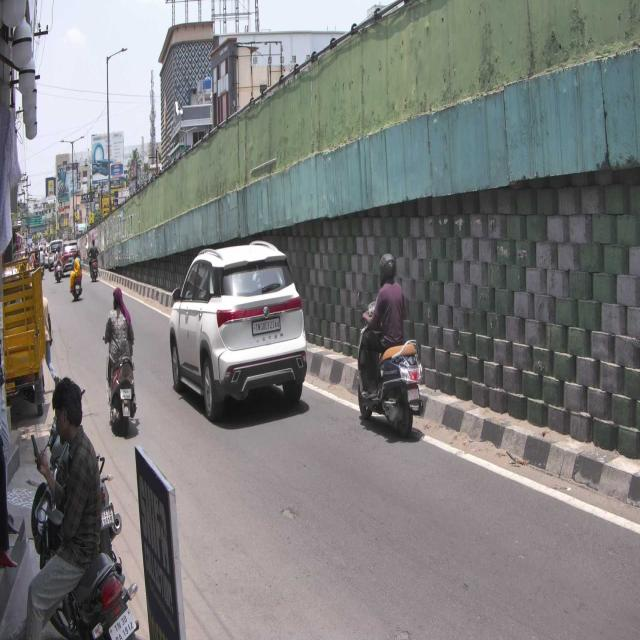single_rider: (356, 252, 424, 440)
